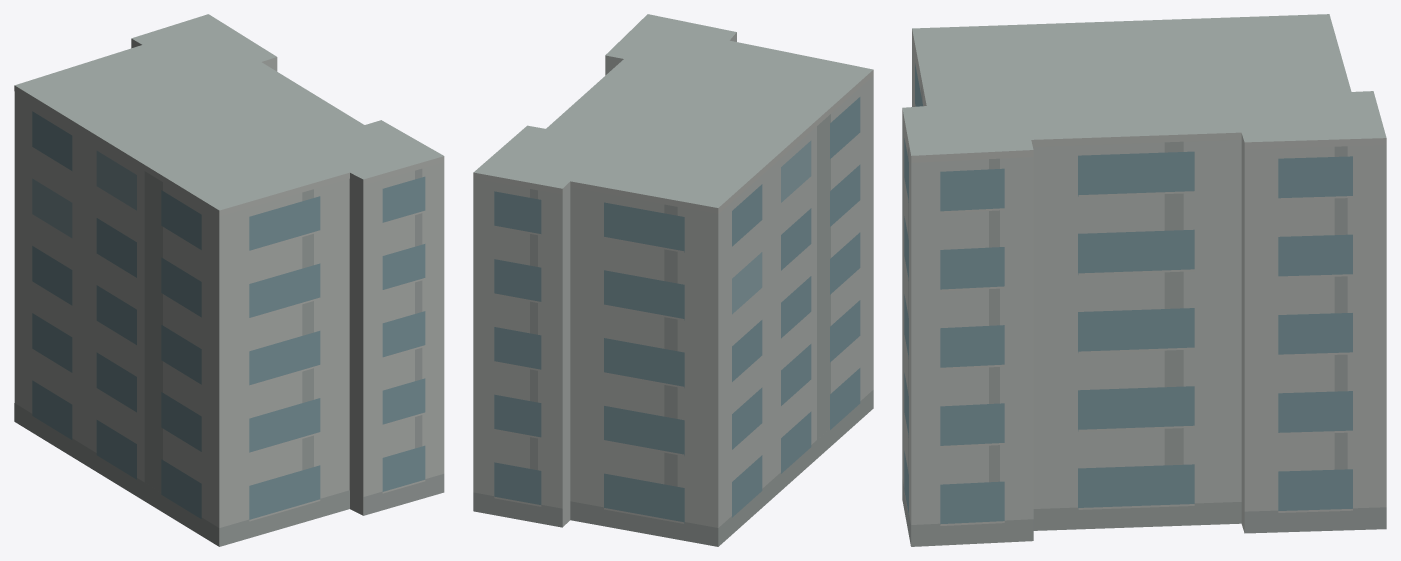
Rendered from survey-upis-32885100.glb.
3 renders of one model, left to right at view 1: azimuth 30°, elevation 25°; view 2: azimuth 150°, elevation 25°; view 3: azimuth 270°, elevation 25°, orthographic. The views are drawn at different scales.
Visible parts, largest first — view 1: survey-upis-32885100.tmp; view 2: survey-upis-32885100.tmp; view 3: survey-upis-32885100.tmp.
Boxes of the visible parts, box(x1,y1,x2,y2) form: survey-upis-32885100.tmp: box(14, 14, 444, 546); survey-upis-32885100.tmp: box(473, 14, 873, 546); survey-upis-32885100.tmp: box(902, 14, 1386, 546).
Bounding box in the file's own units: 10.47 × 13.45 × 15.11.
